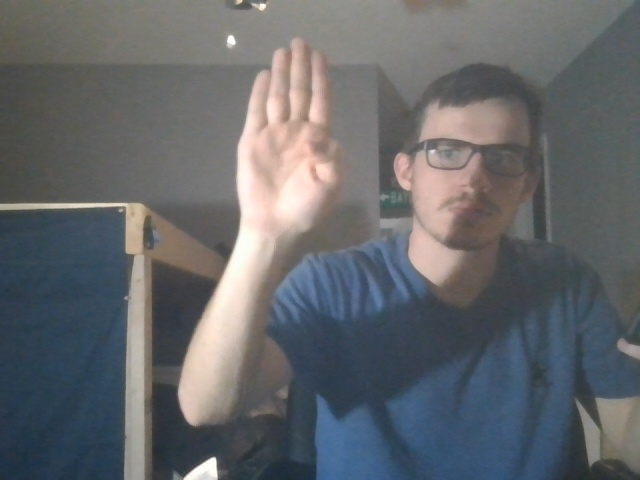B: (235, 32, 352, 251)
